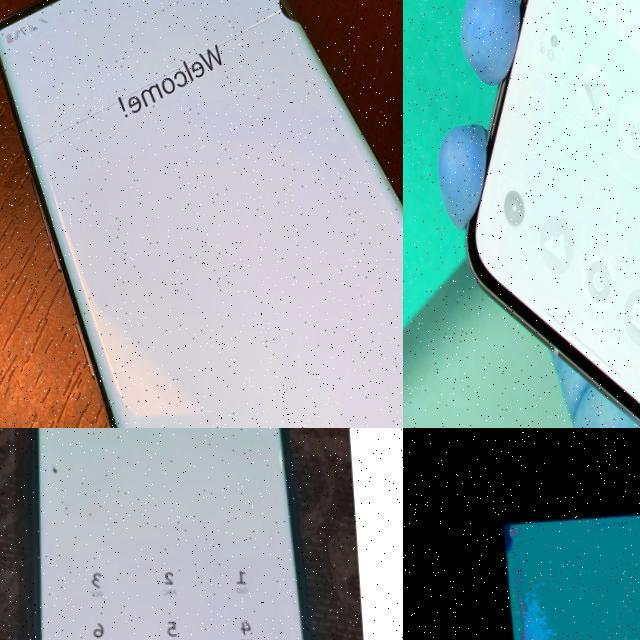dead pixel: (249, 0, 318, 55), (28, 449, 77, 497)
